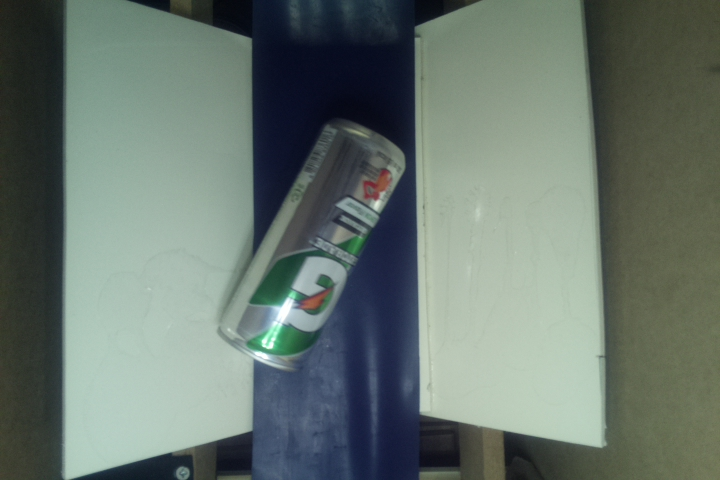can: (217, 119, 405, 375)
